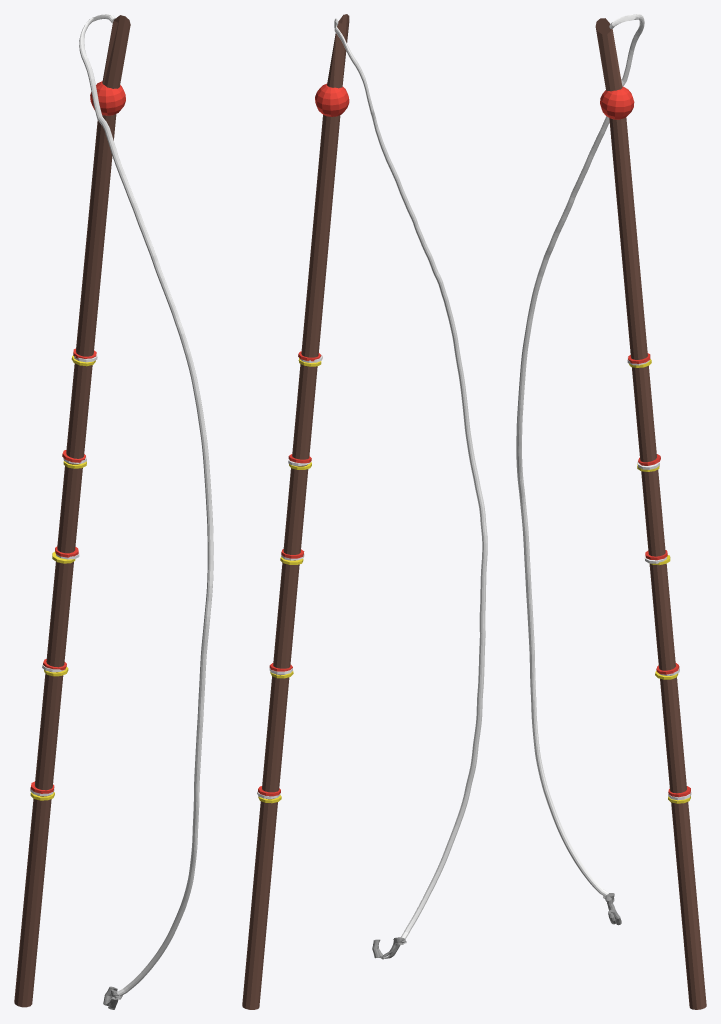
The model's file is rod.fbx.
3 views of the same model, side by side, from view 1: azimuth 90°, elevation 25°; view 2: azimuth 150°, elevation 25°; view 3: azimuth 270°, elevation 25° (orthographic). The views are drawn at different scales.
Parts seen in each view (by area): view 1: mesh_656045657, group_467309651, group_1174405517, mesh_369228350; view 2: mesh_656045657, group_467309651, group_1174405517, mesh_369228350; view 3: mesh_656045657, group_467309651, group_1174405517, mesh_369228350.
Part boxes in pixels (x1,y1,x2,y2): mesh_656045657: [14, 114, 116, 1007]; group_467309651: [79, 14, 213, 996]; group_1174405517: [102, 15, 130, 88]; mesh_369228350: [90, 81, 125, 115]; mesh_656045657: [242, 114, 340, 1009]; group_467309651: [334, 18, 487, 939]; group_1174405517: [327, 14, 349, 88]; mesh_369228350: [315, 83, 349, 116]; mesh_656045657: [609, 117, 706, 1009]; group_467309651: [516, 14, 644, 896]; group_1174405517: [595, 18, 622, 91]; mesh_369228350: [600, 86, 634, 119].
Size of the model in its own units: 31.22 by 185 by 32.95.
